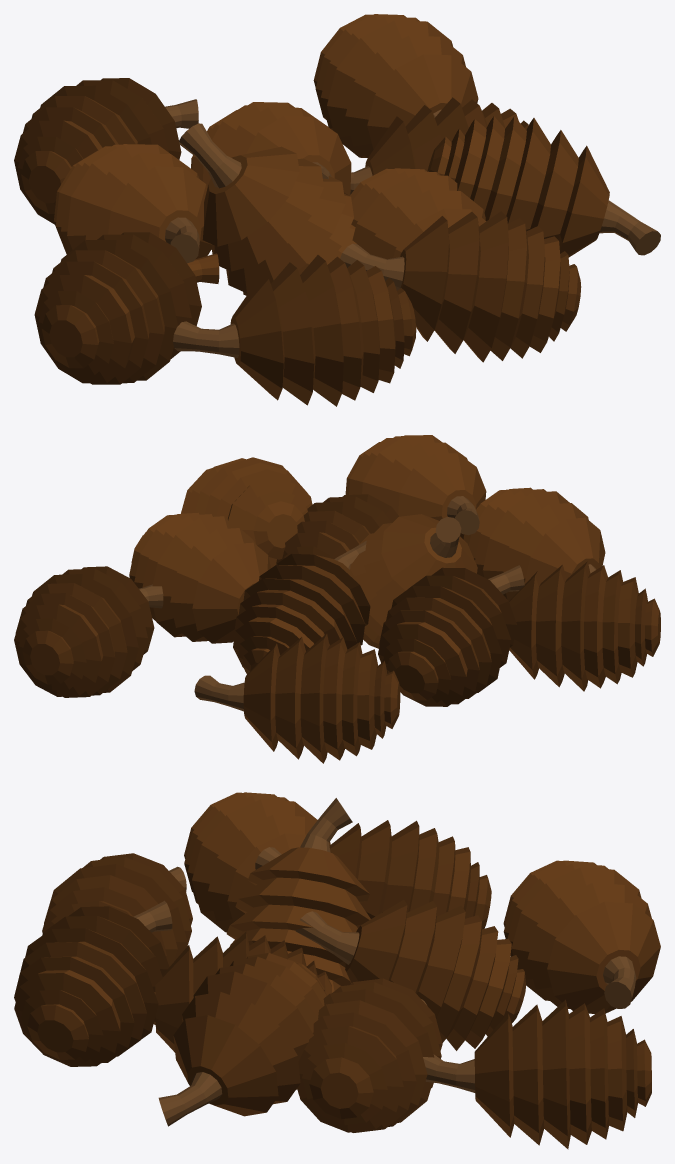
Rendered from pineBuds_bad.fbx.
The picture shows the model from 3 angles, top to bottom: view 1: azimuth 30°, elevation 25°; view 2: azimuth 150°, elevation 25°; view 3: azimuth 270°, elevation 25°; orthographic projection. The views are drawn at different scales.
Parts seen in each view (by area): view 1: Sphere.002; view 2: Sphere.002; view 3: Sphere.002.
Boxes of the visible parts, bbox=[...] form: Sphere.002: bbox=[14, 14, 660, 406]; Sphere.002: bbox=[14, 435, 660, 763]; Sphere.002: bbox=[14, 792, 660, 1149].
Bounding box in the file's own units: 118 × 38.77 × 118.
